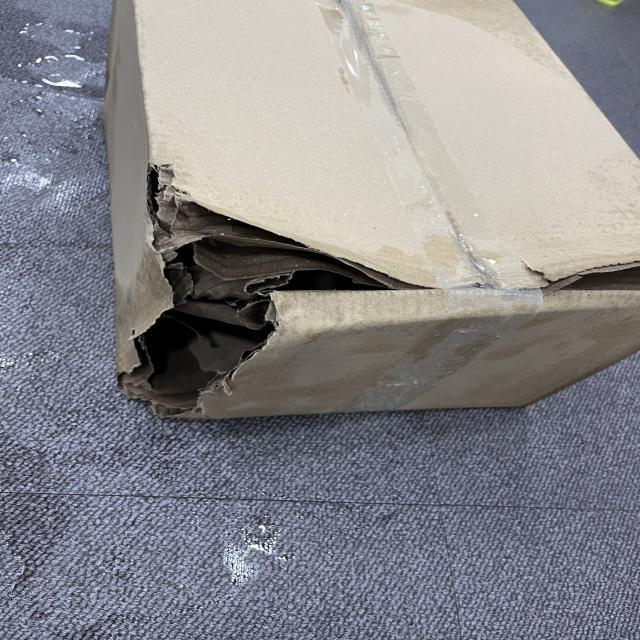hole: (113, 179, 406, 399), (538, 257, 640, 295)
